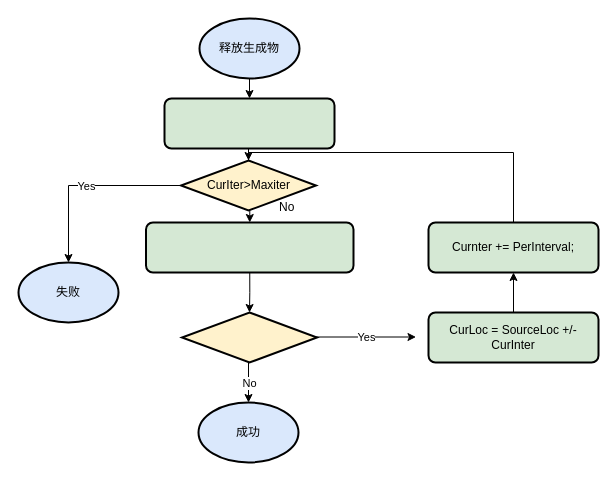
Some shapes in this 616 by 480 pixel diagram are drawn without their labels. The shapes that lost their labels are listed below. From the top down, each one's centre as x and y in pixels, then its label:
the point at 249,123: CurInter = PerInterval； CurIter = 0； CurLoc = SourceLoc;
the point at 249,247: SweepSingleByProfile(CurShape) LineTraceByProfile(CurLoc,SourceLoc)
the point at 249,337: bHits
